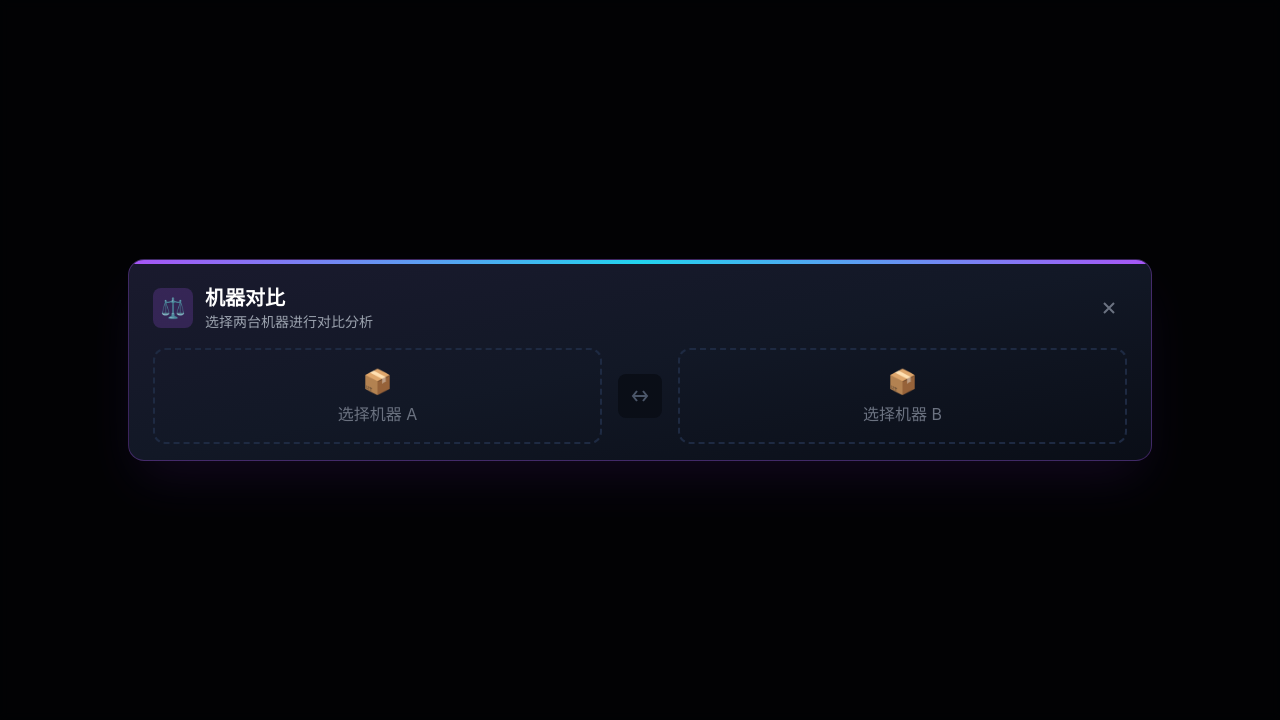
MachineComparisonPanel › Edge Cases › handles empty codex gracefully
Click the button with test id "select-machine-a-button".
click(378, 396)  # box [153, 348, 602, 444]
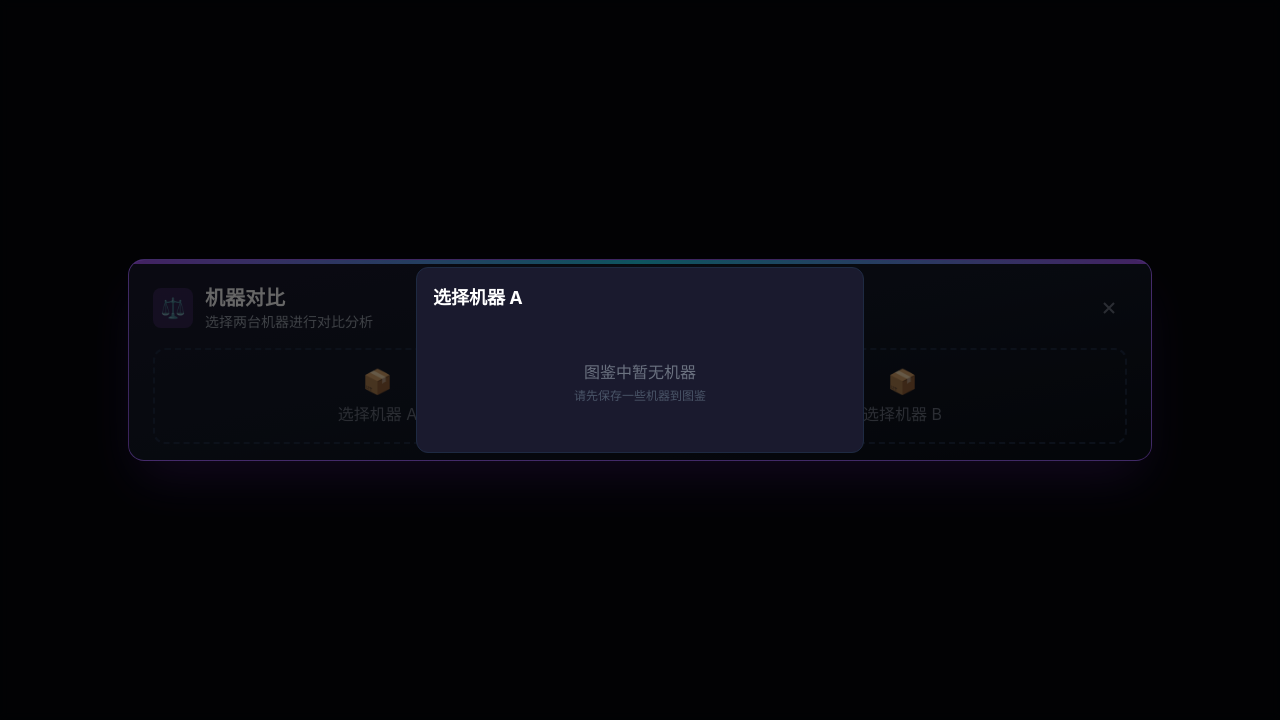
expect the text "图鉴中暂无机器" is shown: met, box [584, 362, 696, 382]
